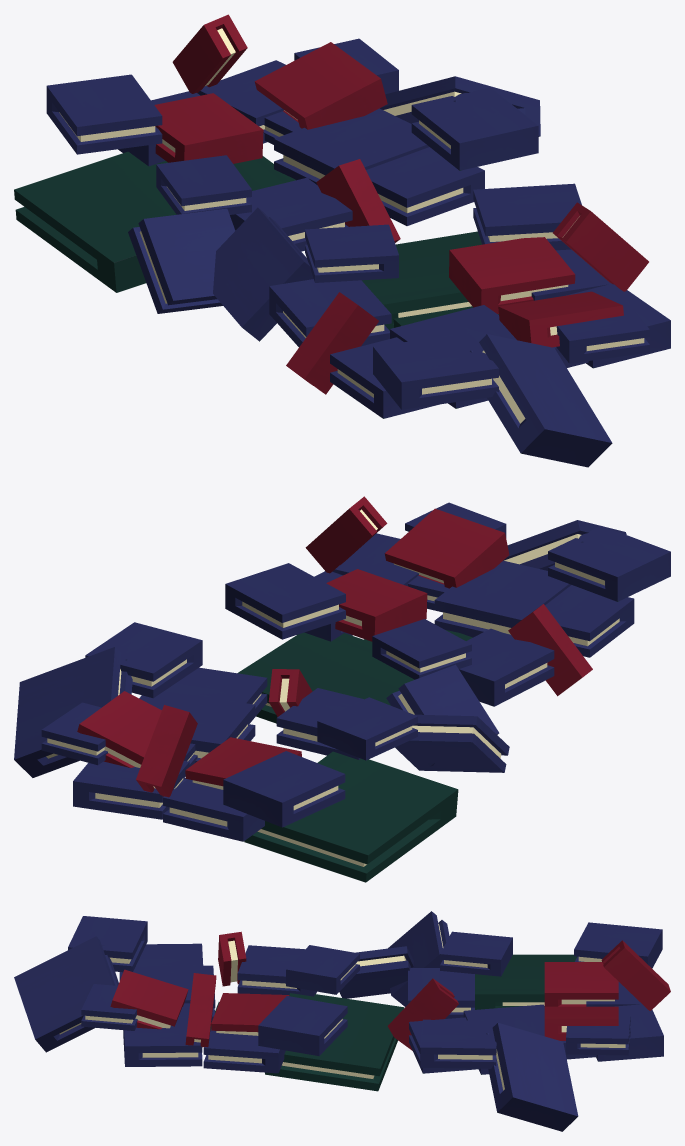
File: Librostirados.fbx
The picture shows the model from 3 angles, top to bottom: view 1: azimuth 30°, elevation 25°; view 2: azimuth 150°, elevation 25°; view 3: azimuth 270°, elevation 25°; orthographic projection. The views are drawn at different scales.
Parts seen in each view (by area): view 1: Cube.063; view 2: Cube.063; view 3: Cube.063.
Boxes of the visible parts, x1,y1,x2,y2 form: Cube.063: (14,14,670,467); Cube.063: (14,496,670,882); Cube.063: (14,911,670,1131).
Bounding box in the file's own units: 162 × 53.25 × 272.
